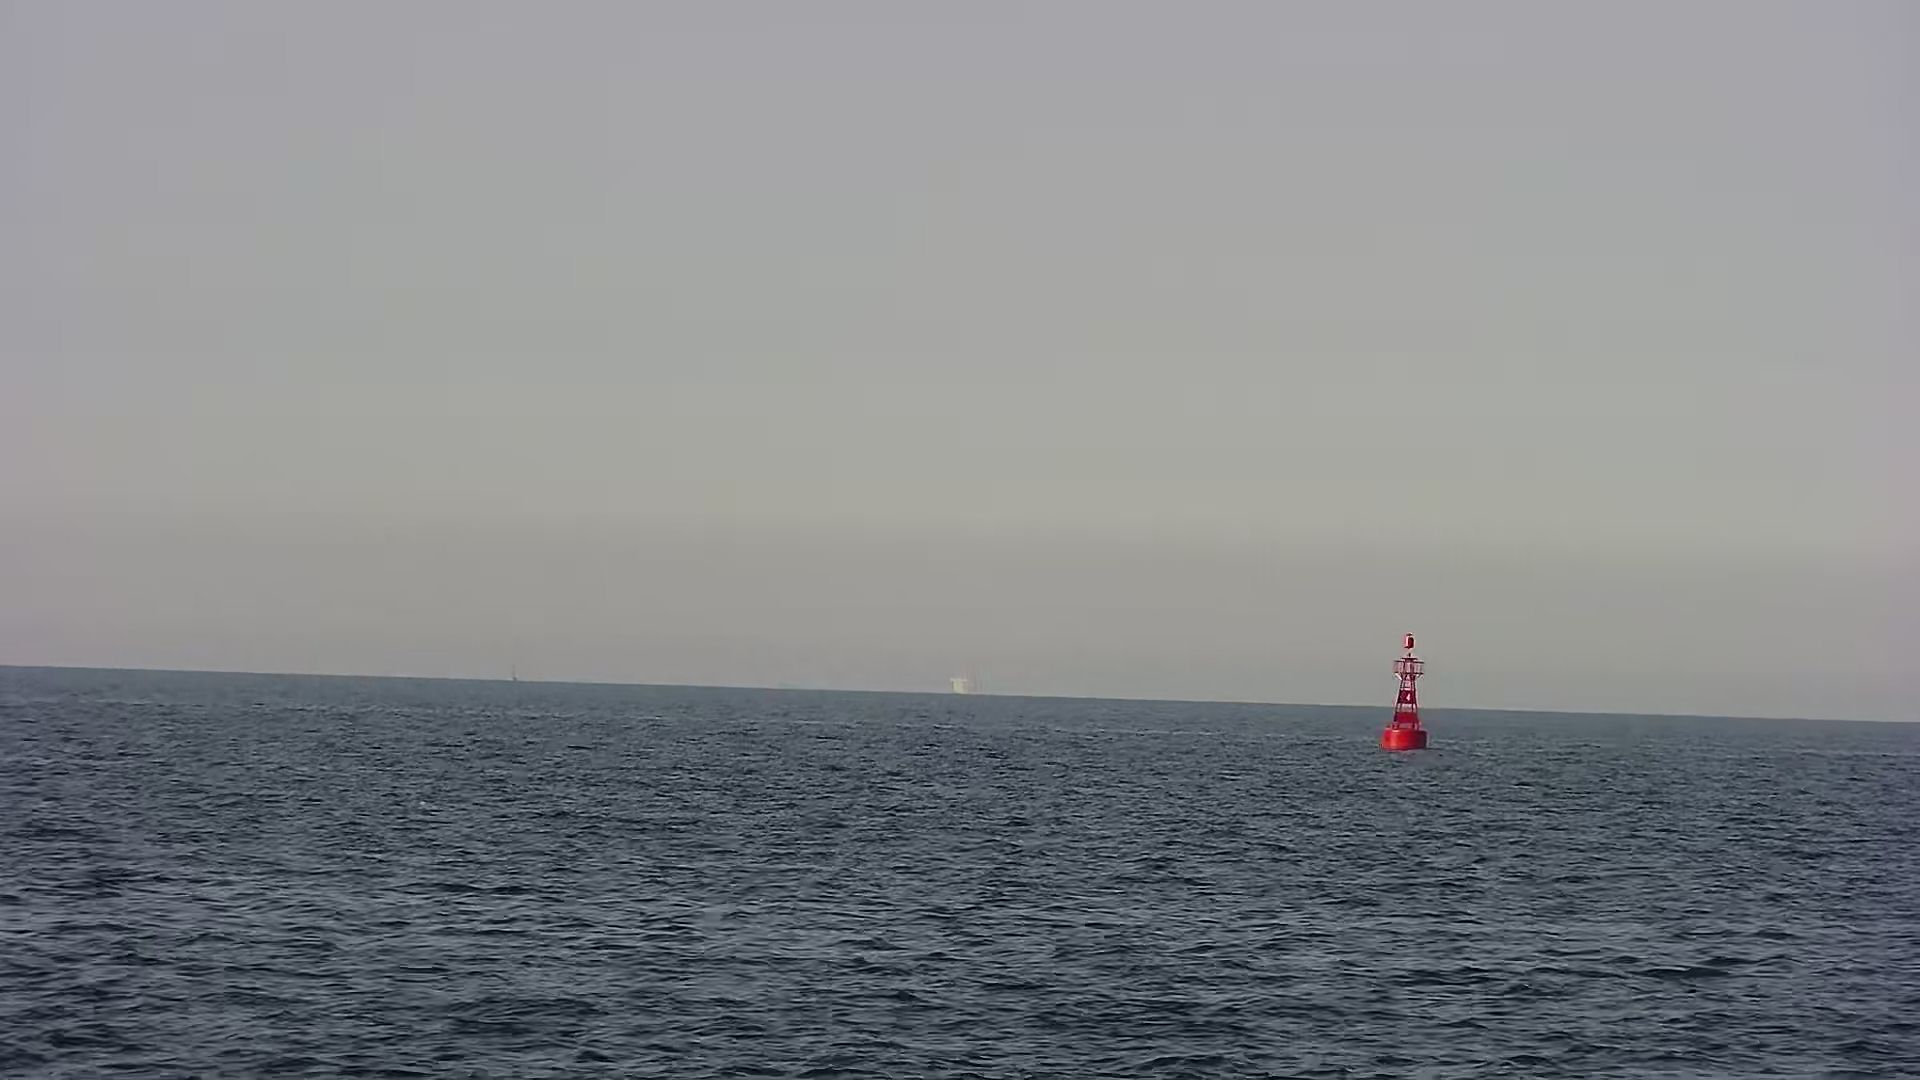buoy: (1378, 620, 1429, 757)
